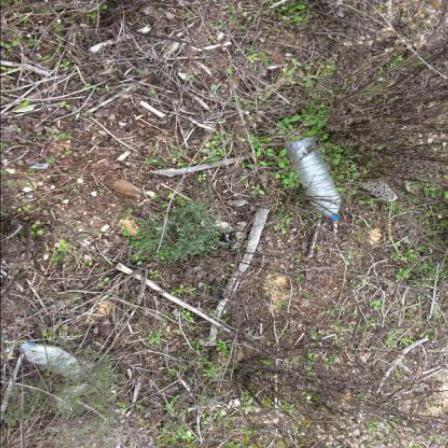Bottle: (284, 138, 341, 221), (22, 341, 82, 379)
